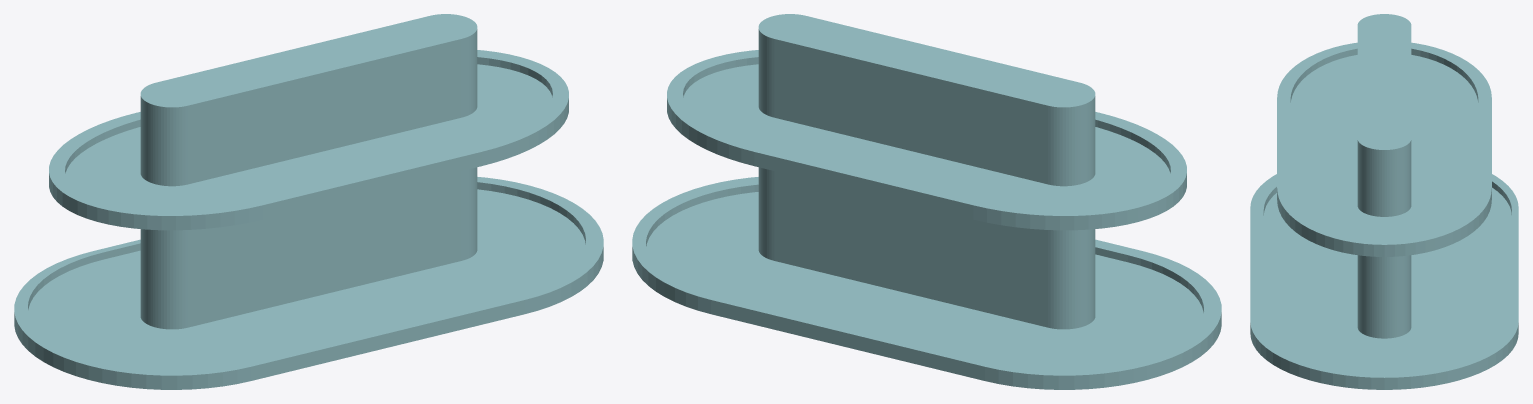
File: round shelf.glb
The picture shows the model from 3 angles, left to right: view 1: azimuth 30°, elevation 25°; view 2: azimuth 150°, elevation 25°; view 3: azimuth 270°, elevation 25°; orthographic projection. The views are drawn at different scales.
Visible parts, largest first — view 1: Mesh_Mesh_head_geo.001_lambert2SG.001; view 2: Mesh_Mesh_head_geo.001_lambert2SG.001; view 3: Mesh_Mesh_head_geo.001_lambert2SG.001.
Boxes of the visible parts, x1,y1,x2,y2 form: Mesh_Mesh_head_geo.001_lambert2SG.001: (14, 14, 603, 389); Mesh_Mesh_head_geo.001_lambert2SG.001: (632, 14, 1221, 389); Mesh_Mesh_head_geo.001_lambert2SG.001: (1250, 14, 1518, 389).
Size of the model in its own units: 0.04 by 0.016 by 0.02.
